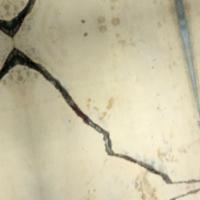crack: (2, 3, 199, 199)
